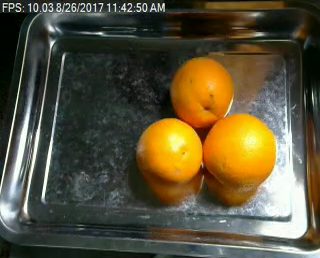Orange: (202, 113, 278, 192), (135, 116, 202, 188), (170, 56, 233, 127)
